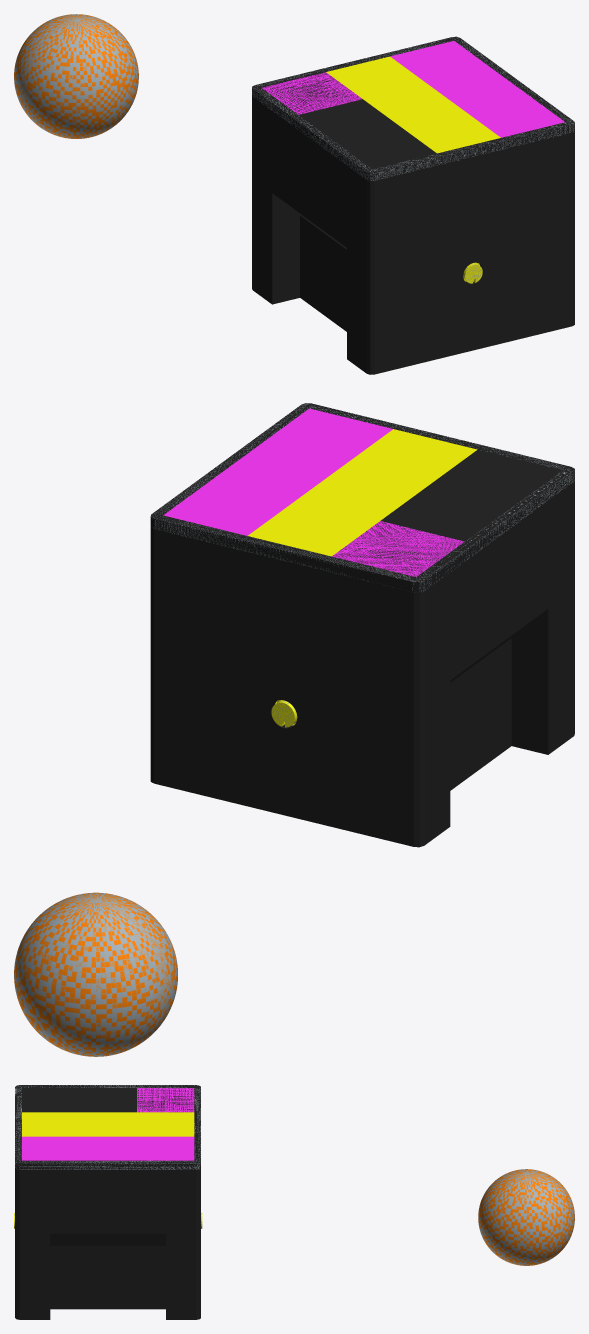
The model's file is EstruturaVSSS2017.obj.
The picture shows the model from 3 angles, top to bottom: view 1: azimuth 30°, elevation 25°; view 2: azimuth 150°, elevation 25°; view 3: azimuth 270°, elevation 25°; orthographic projection. The views are drawn at different scales.
Parts seen in each view (by area): view 1: Mesh6 Group6 Model, Mesh10 Case1 Model, Mesh11 Model, Mesh5 Group5 Model, Mesh3 Group3 Model, Mesh2 Group2 Model, Mesh1 Group1 Model, Mesh4 Group4 Model; view 2: Mesh6 Group6 Model, Mesh10 Case1 Model, Mesh11 Model, Mesh5 Group5 Model, Mesh3 Group3 Model, Mesh2 Group2 Model, Mesh4 Group4 Model, Mesh1 Group1 Model; view 3: Mesh6 Group6 Model, Mesh10 Case1 Model, Mesh11 Model, Mesh5 Group5 Model, Mesh3 Group3 Model, Mesh2 Group2 Model, Mesh1 Group1 Model, Mesh4 Group4 Model.
Boxes of the visible parts, x1,y1,x2,y2 form: Mesh6 Group6 Model: (252,130,574,374); Mesh10 Case1 Model: (252,36,574,215); Mesh11 Model: (14,14,138,138); Mesh5 Group5 Model: (326,56,500,153); Mesh3 Group3 Model: (390,41,564,137); Mesh2 Group2 Model: (299,99,399,141); Mesh1 Group1 Model: (262,72,362,114); Mesh4 Group4 Model: (336,126,436,168); Mesh6 Group6 Model: (150,525,574,847); Mesh10 Case1 Model: (150,403,574,638); Mesh11 Model: (14,892,177,1056); Mesh5 Group5 Model: (248,429,477,556); Mesh3 Group3 Model: (163,408,392,535); Mesh2 Group2 Model: (380,485,513,541); Mesh4 Group4 Model: (429,449,561,505); Mesh1 Group1 Model: (332,521,464,576); Mesh6 Group6 Model: (15,1195,200,1319); Mesh10 Case1 Model: (15,1085,200,1196); Mesh11 Model: (478,1169,574,1265); Mesh5 Group5 Model: (22,1112,194,1136); Mesh3 Group3 Model: (22,1136,194,1160); Mesh2 Group2 Model: (79,1088,136,1112); Mesh1 Group1 Model: (137,1088,194,1112); Mesh4 Group4 Model: (22,1088,79,1112).
Bounding box in the file's own units: 88.79 × 79 × 247.
